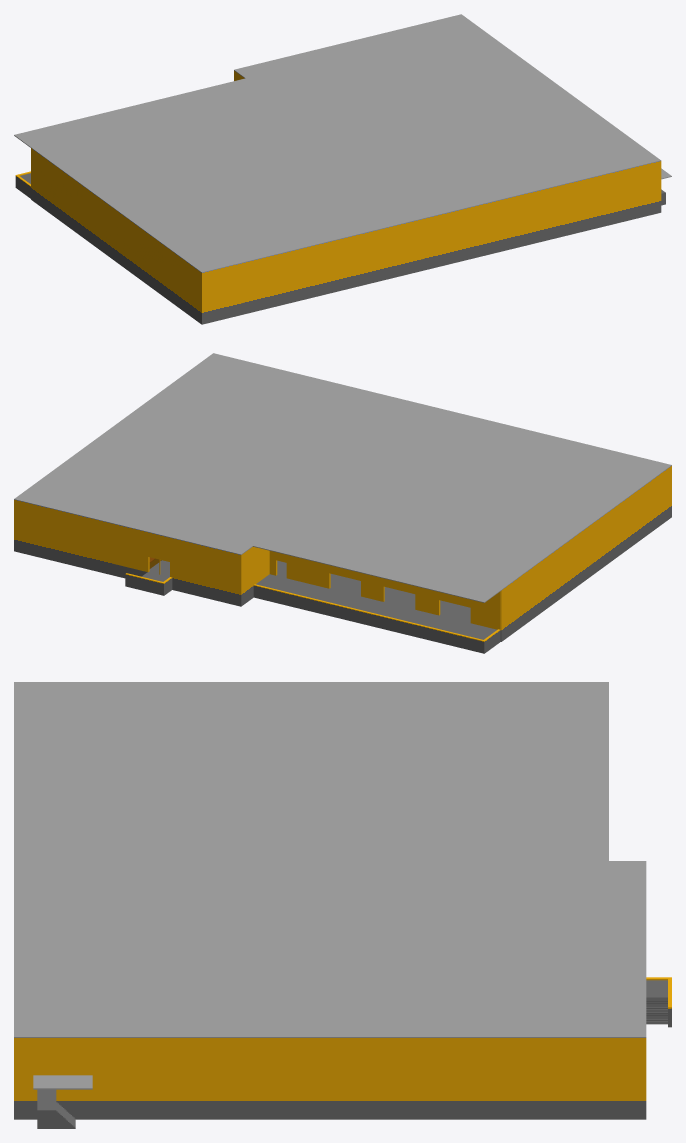
Rendered from Warehouse.glb.
3 views of the same model, one above another, from view 1: azimuth 30°, elevation 25°; view 2: azimuth 150°, elevation 25°; view 3: azimuth 270°, elevation 25° (orthographic). The views are drawn at different scales.
Parts seen in each view (by area): view 1: model.003, model.002, model.004, model.005, model.001, model; view 2: model.004, model.005, model.003, model.002, model, model.001; view 3: model.001, model, model.002, model.003, model.005, model.004.
Part boxes in pixels (x1,y1,x2,y2): model.003: (97, 152, 382, 324); model.002: (278, 108, 562, 280); model.004: (14, 91, 277, 247); model.005: (195, 38, 457, 151); model.001: (458, 84, 671, 236); model: (363, 14, 556, 107); model.004: (304, 497, 567, 653); model.005: (112, 453, 387, 609); model.003: (388, 421, 671, 592); model.002: (208, 377, 491, 496); model: (14, 429, 207, 574); model.001: (110, 353, 311, 452); model.001: (14, 960, 343, 1128); model: (343, 960, 646, 1119); model.002: (14, 821, 343, 960); model.003: (14, 682, 343, 821); model.005: (343, 821, 671, 1027); model.004: (343, 682, 608, 821).
Size of the model in its own units: 67.6 by 7.1 by 51.1.
Materials: 6 (6 with a texture image).
